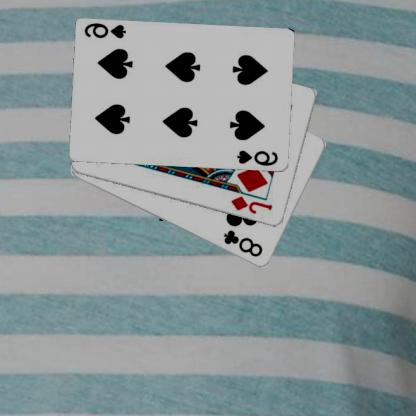6S: (236, 148, 281, 167), (84, 21, 129, 40)
8C: (223, 228, 266, 258)
JD: (230, 193, 276, 216)
